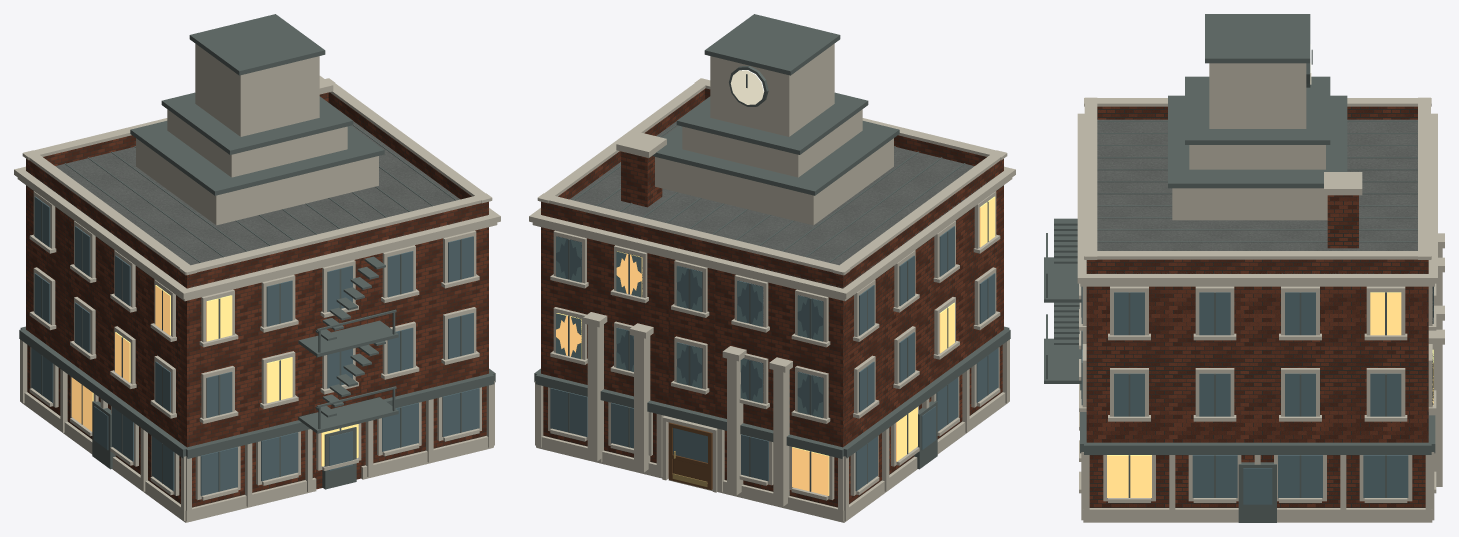
Rendered from civic.glb.
3 views of the same model, side by side, from view 1: azimuth 30°, elevation 25°; view 2: azimuth 150°, elevation 25°; view 3: azimuth 270°, elevation 25° (orthographic). The views are drawn at different scales.
Visible parts, largest first — view 1: foundation wing, masonry wing, roof tar seam, window pane, roof, window pane.002; view 2: foundation wing, masonry wing, roof tar seam, roof, window pane, window pane.019, window glass remnant, window pane.002, door bottom rail, window pane.023, door glazing, clock face; view 3: masonry wing, foundation wing, roof tar seam, roof, window pane, window pane.002.
Boxes of the visible parts, <box> form: foundation wing: <box>14,43,500,522</box>; masonry wing: <box>26,92,488,507</box>; roof tar seam: <box>19,14,495,491</box>; window pane: <box>31,196,479,495</box>; roof: <box>30,121,488,287</box>; window pane.002: <box>71,285,358,466</box>; foundation wing: <box>529,43,1015,522</box>; masonry wing: <box>541,88,1003,507</box>; roof tar seam: <box>534,14,1010,491</box>; roof: <box>570,121,998,288</box>; window pane: <box>550,226,998,491</box>; window pane.019: <box>556,236,823,417</box>; window glass remnant: <box>556,237,822,418</box>; window pane.002: <box>792,196,995,495</box>; door bottom rail: <box>669,422,712,489</box>; window pane.023: <box>556,251,642,358</box>; door glazing: <box>673,428,707,462</box>; clock face: <box>730,70,764,104</box>; masonry wing: <box>1086,106,1428,507</box>; foundation wing: <box>1077,63,1444,522</box>; roof tar seam: <box>1044,14,1435,522</box>; roof: <box>1087,119,1425,273</box>; window pane: <box>1081,286,1408,504</box>; window pane.002: <box>1107,292,1401,497</box>.
Bounding box in the file's own units: 13.65 × 15.82 × 14.07.
11 materials, 2 textured.
